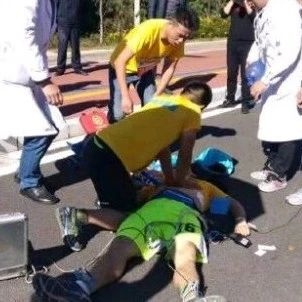falling: (20, 153, 249, 302)
